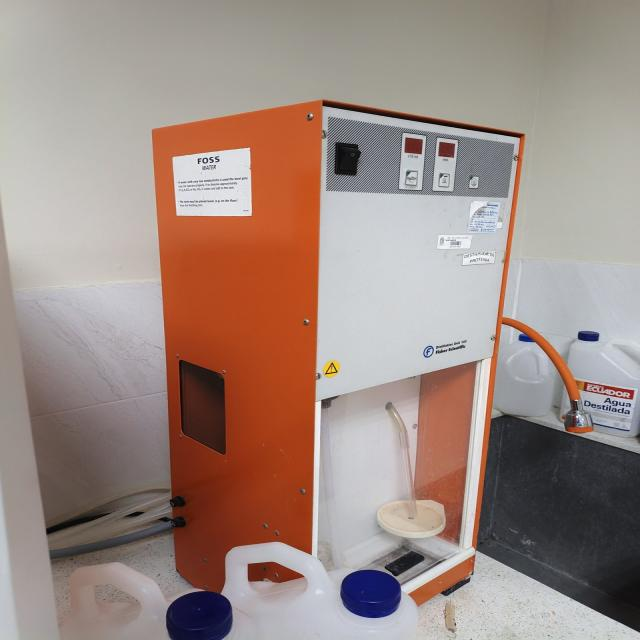Destilador por Arrastre de Vapor tipo Kjeldahl: (153, 100, 523, 604)
